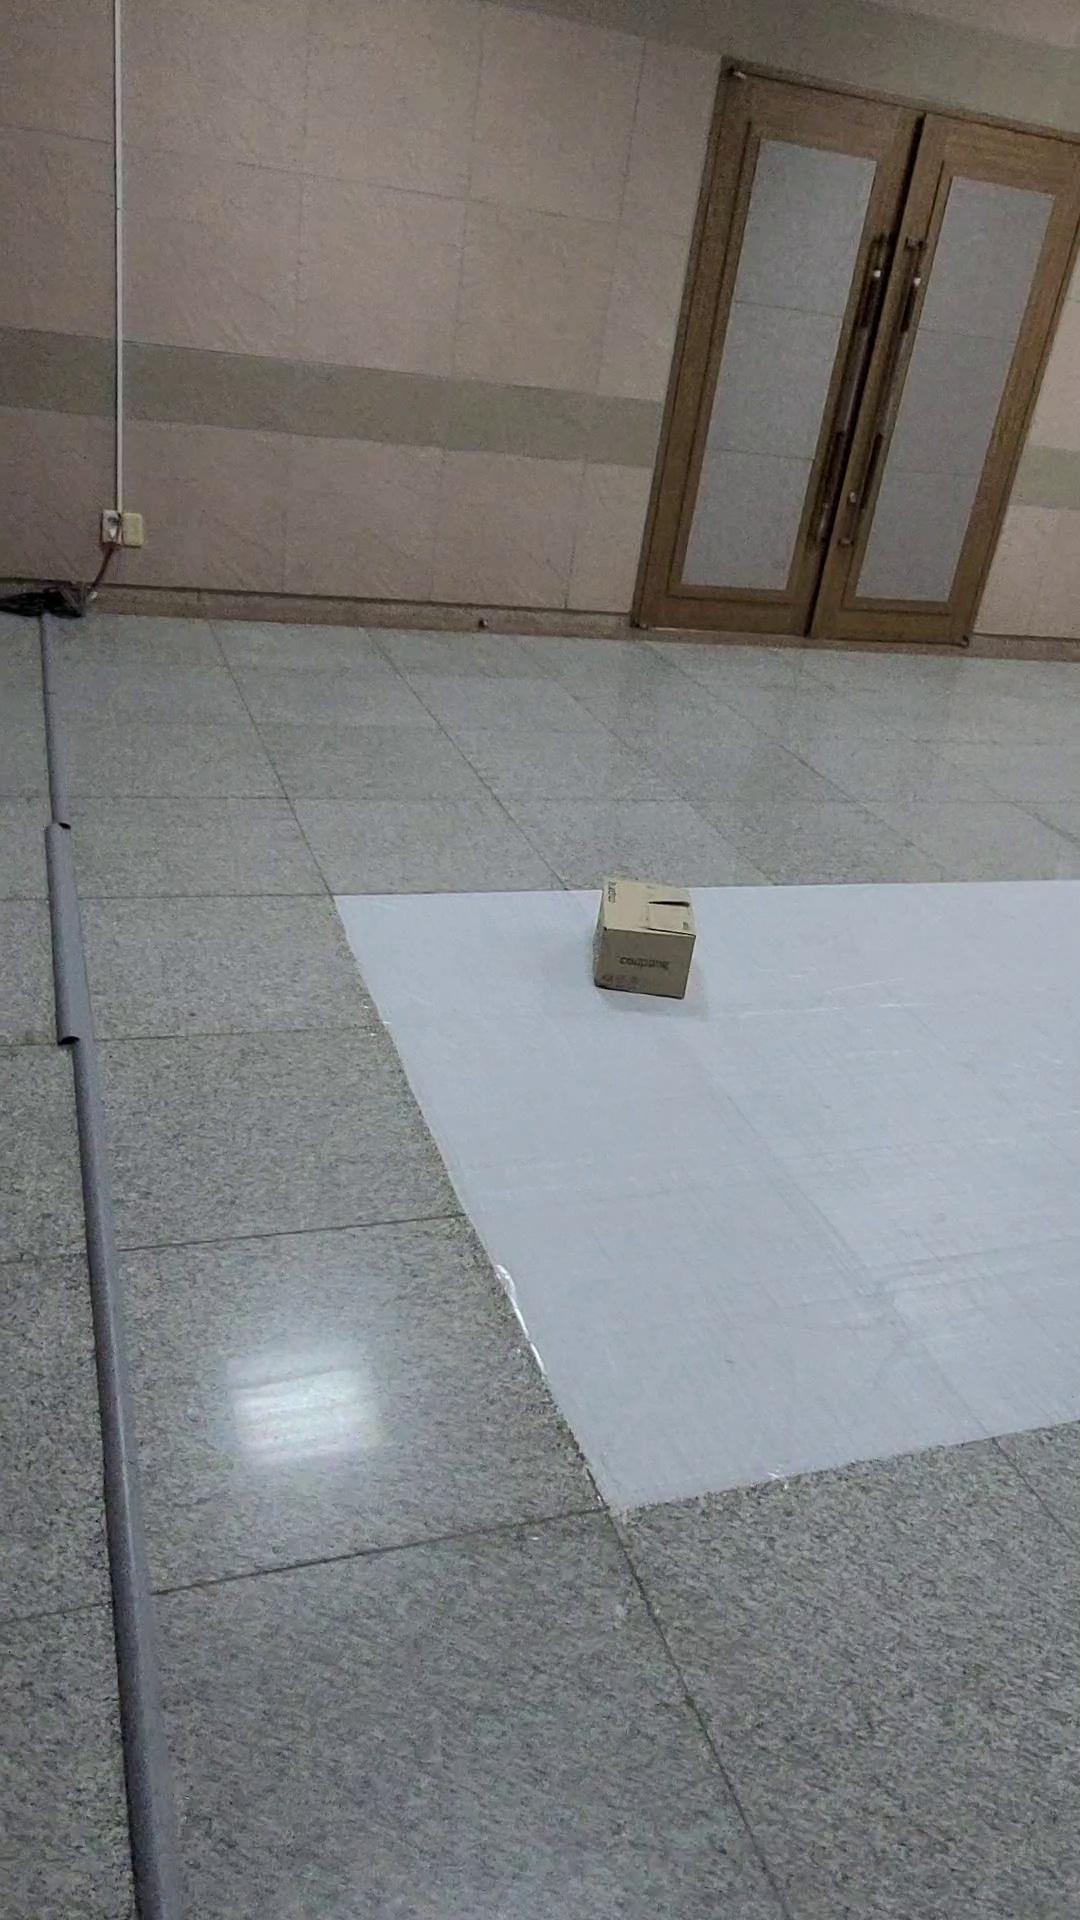Box: (493, 833, 735, 1055)
